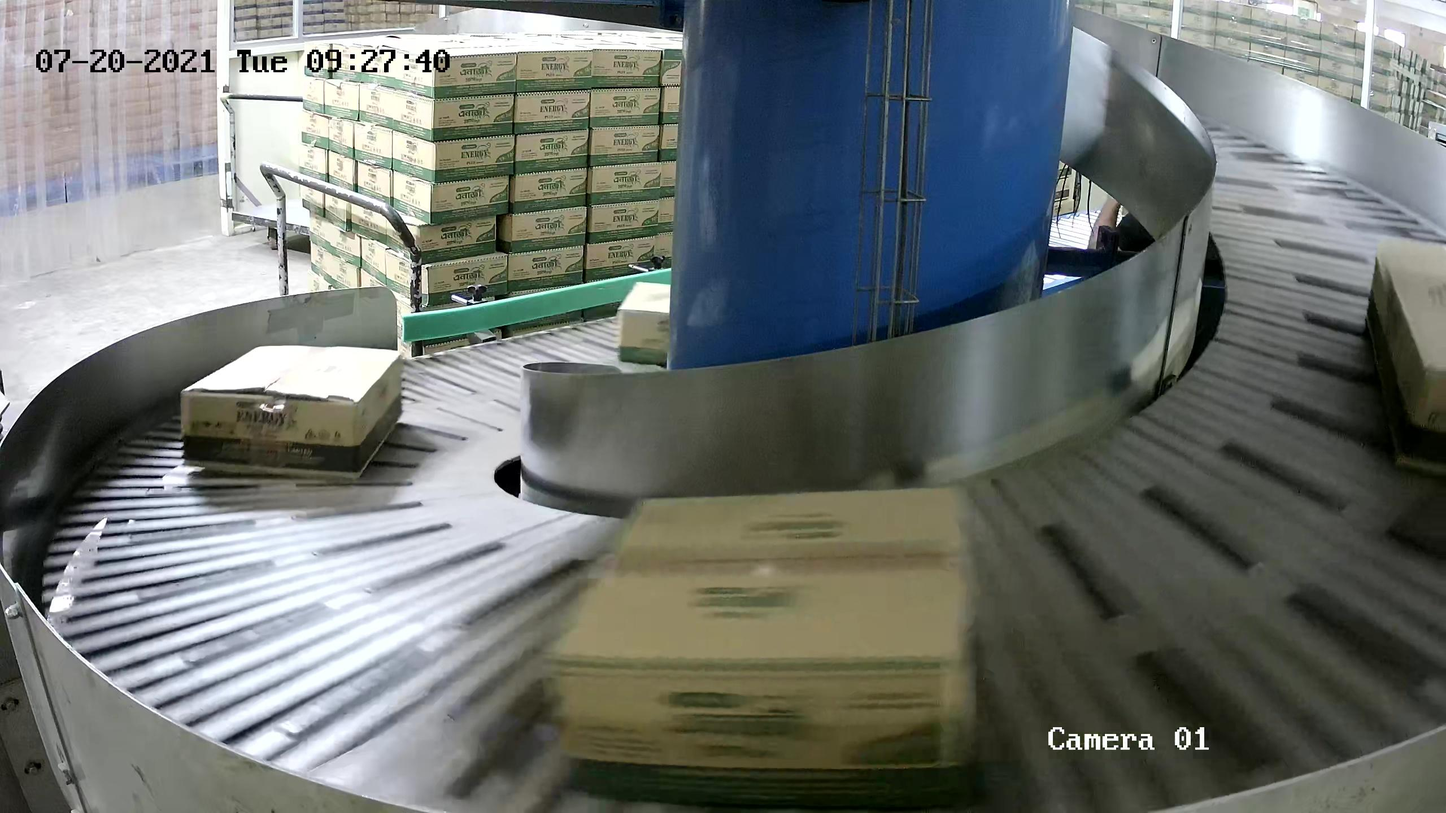Box: (551, 481, 983, 813), (179, 343, 404, 484), (1362, 238, 1446, 483), (618, 282, 735, 377)
